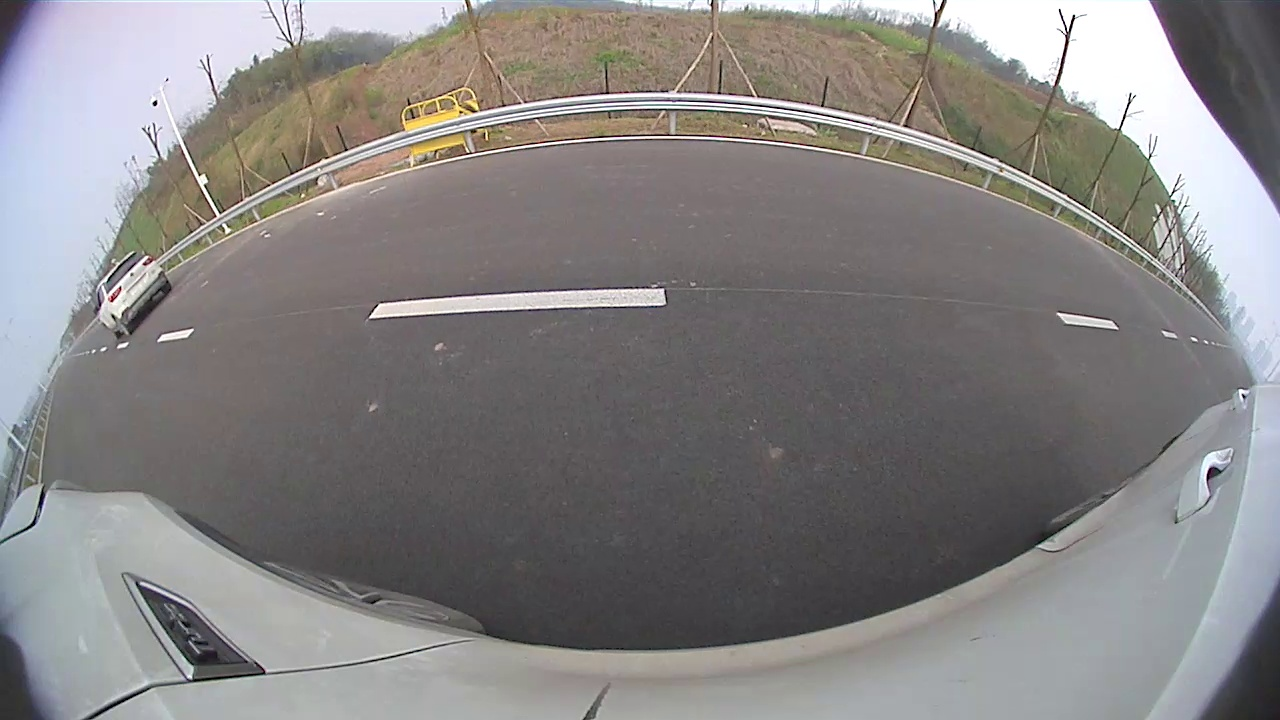car: (159, 55, 540, 277)
front: (350, 160, 432, 249)
rear: (184, 222, 230, 278)
